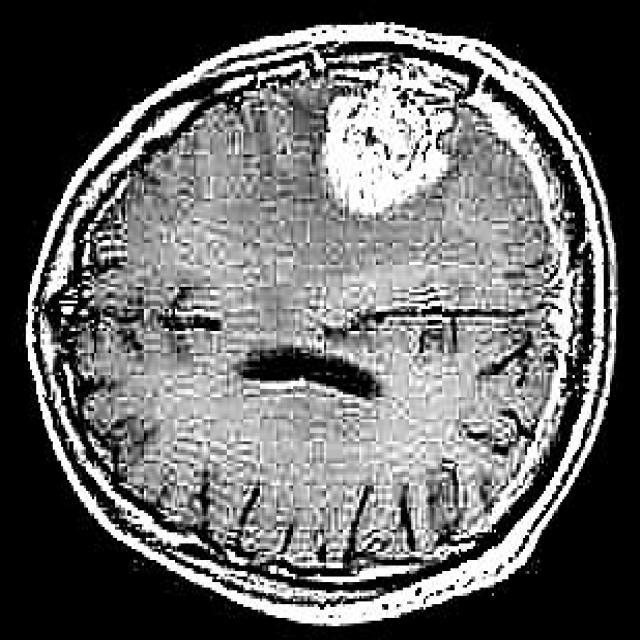tumor: (319, 58, 464, 218)
